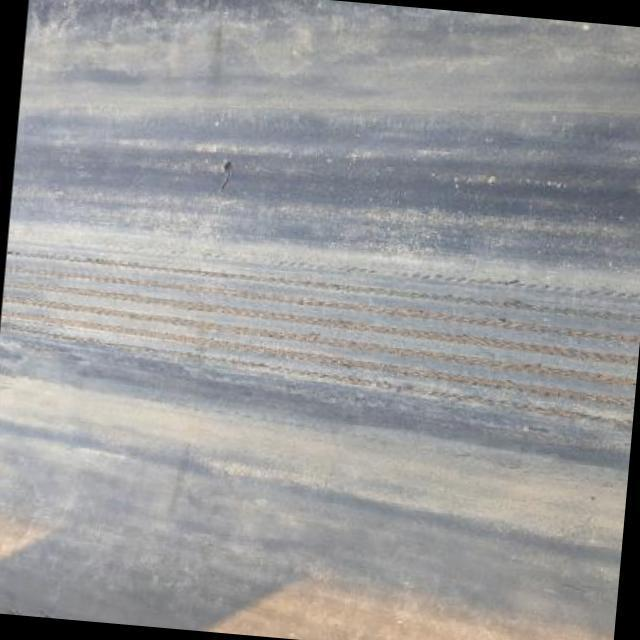Wear: (2, 232, 640, 432)
